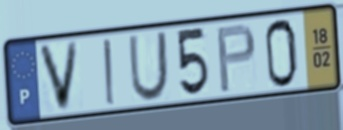0: (263, 16, 300, 89)
5: (176, 24, 212, 100)
I: (101, 36, 119, 108)
P: (214, 21, 259, 96)
U: (126, 29, 170, 104)
V: (35, 39, 82, 115)
